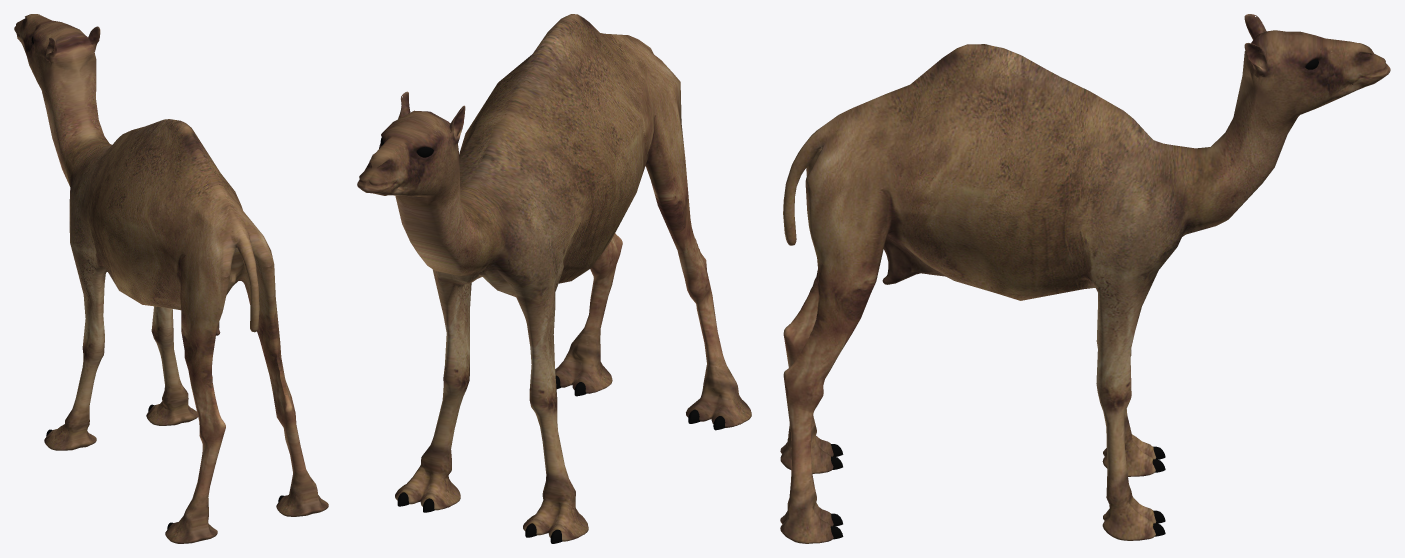
Rendered from Camel.FBX.
The picture shows the model from 3 angles, left to right: view 1: azimuth 30°, elevation 25°; view 2: azimuth 150°, elevation 25°; view 3: azimuth 270°, elevation 25°; orthographic projection. The views are drawn at different scales.
Visible parts, largest first — view 1: DROMEDAR; view 2: DROMEDAR; view 3: DROMEDAR.
Boxes of the visible parts, bbox=[...] form: DROMEDAR: bbox=[14, 14, 328, 543]; DROMEDAR: bbox=[357, 14, 751, 543]; DROMEDAR: bbox=[780, 14, 1390, 543].
Bounding box in the file's own units: 117 × 261 × 308.
3 materials, 1 textured.
